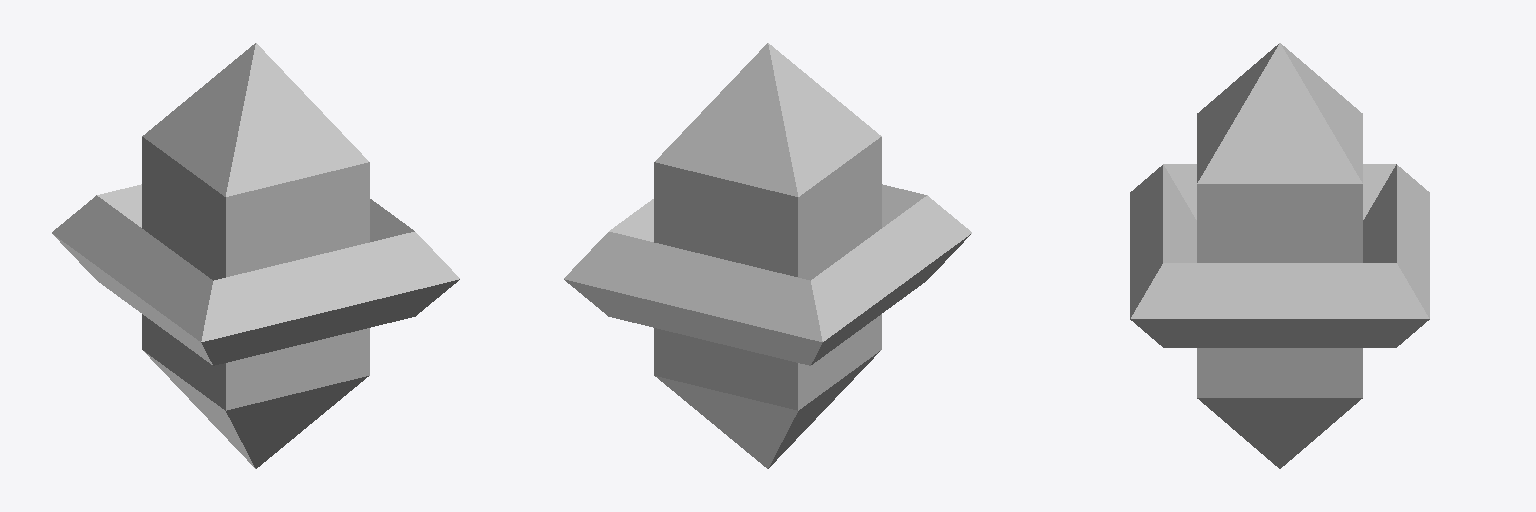
File: vis_relay.obj
3 renders of one model, left to right at view 1: azimuth 30°, elevation 25°; view 2: azimuth 150°, elevation 25°; view 3: azimuth 270°, elevation 25°, orthographic.
Parts seen in each view (by area): view 1: crystal, ring_float; view 2: crystal, ring_float; view 3: crystal, ring_float.
Part boxes in pixels (x1,y1,x2,y2): crystal: (142,43,369,468); ring_float: (52,184,459,365); crystal: (654,43,881,468); ring_float: (564,184,971,365); crystal: (1197,43,1362,468); ring_float: (1130,164,1429,347).
Size of the model in its own units: 0.3182 by 0.5 by 0.3182.